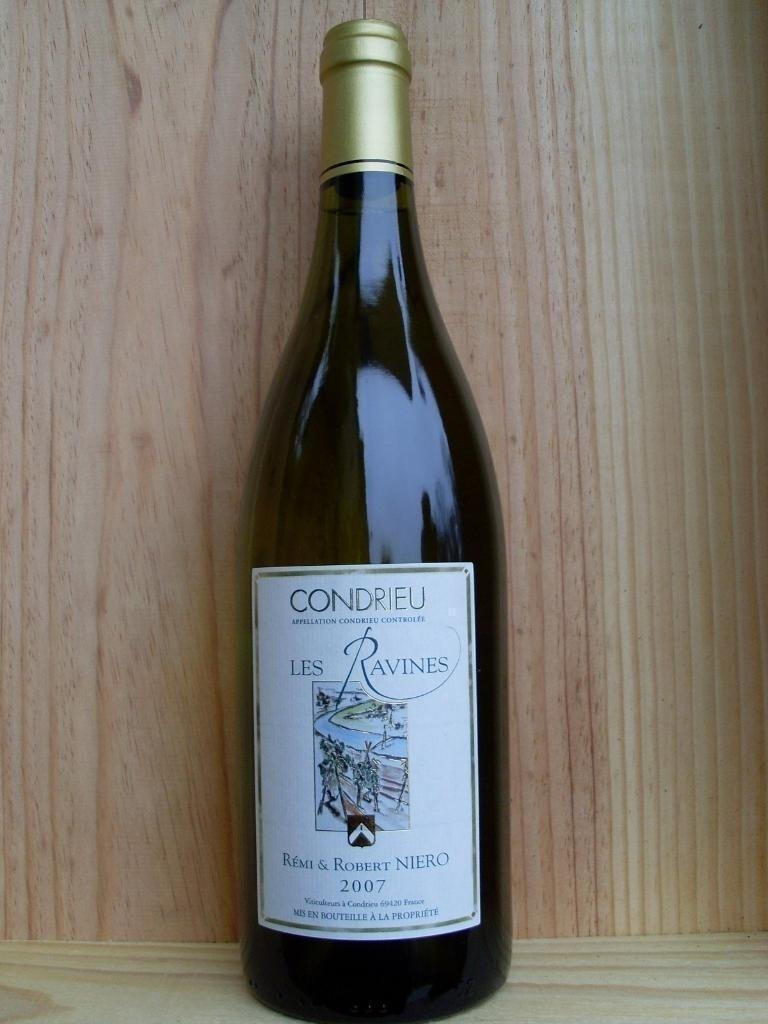bottle-glass: (230, 18, 517, 1023)
